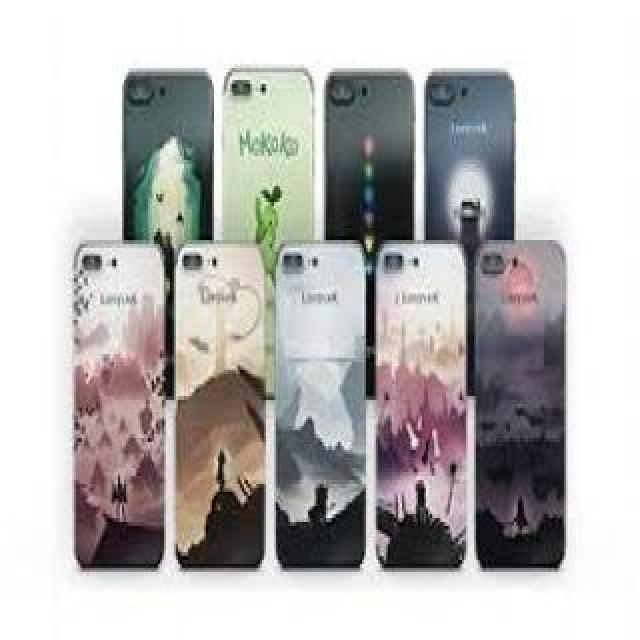smart phone: (280, 240, 370, 585), (185, 242, 275, 586), (385, 258, 477, 580), (82, 240, 163, 572), (493, 222, 562, 580), (437, 42, 533, 236), (224, 66, 318, 246), (332, 53, 415, 245), (125, 45, 210, 232)
